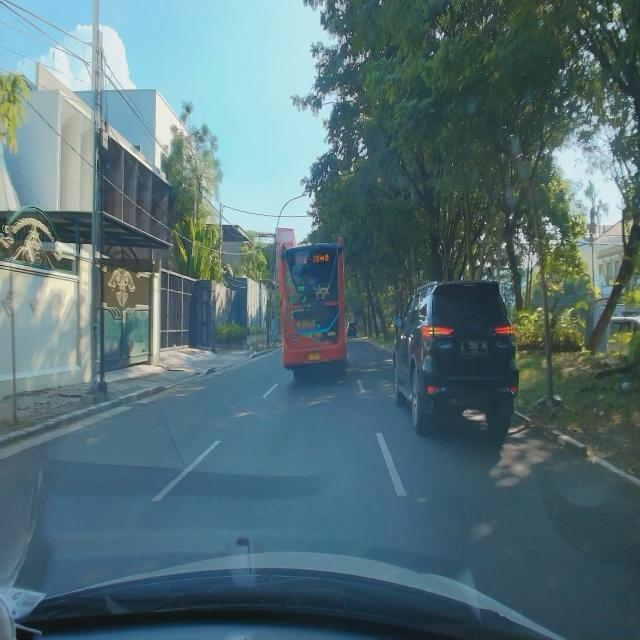bus: (279, 235, 349, 382)
car: (392, 277, 520, 446)
license-plate: (461, 340, 488, 356), (308, 351, 322, 361)
